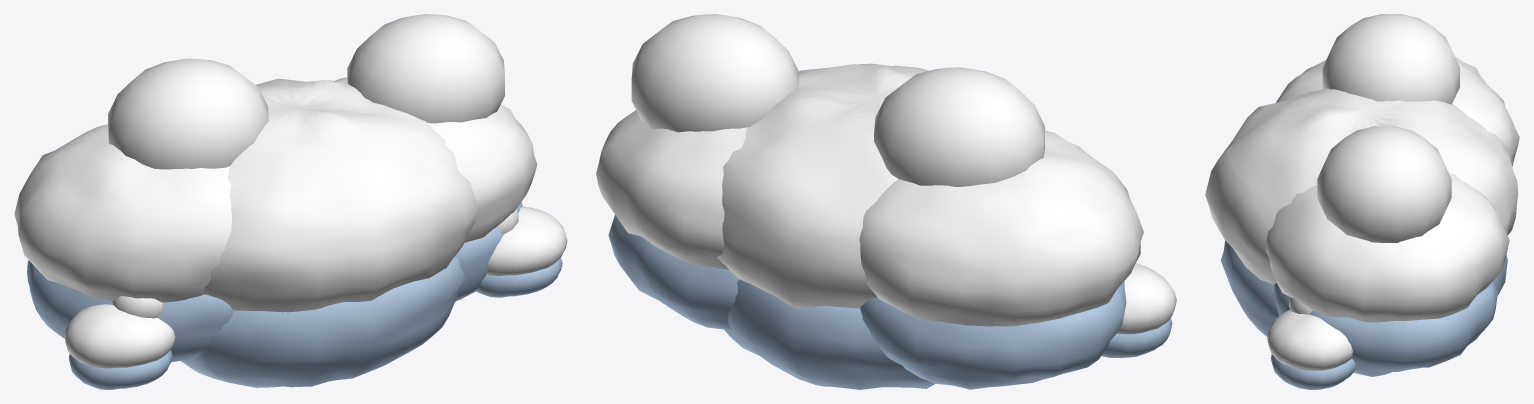
File: cloud-c.glb
3 renders of one model, left to right at view 1: azimuth 30°, elevation 25°; view 2: azimuth 150°, elevation 25°; view 3: azimuth 270°, elevation 25°, orthographic. The views are drawn at different scales.
Parts seen in each view (by area): view 1: cloud puff.002, cloud puff.001, cloud belly.002, cloud cap.003, cloud cap.001, cloud puff.003, cloud belly.001, cloud puff, cloud puff.004, cloud belly, cloud belly.003, cloud belly.004 (+1 smaller); view 2: cloud puff.001, cloud puff.002, cloud cap.003, cloud cap.001, cloud puff.003, cloud belly.001, cloud belly.002, cloud belly.003, cloud puff, cloud belly; view 3: cloud puff.002, cloud puff.003, cloud cap.001, cloud cap.003, cloud belly.003, cloud puff.004, cloud puff.001, cloud belly.002, cloud belly.004.
Part boxes in pixels (<box>): cloud puff.002: <box>204,78,478,312</box>; cloud puff.001: <box>14,124,231,302</box>; cloud belly.002: <box>180,257,464,387</box>; cloud cap.003: <box>108,58,268,169</box>; cloud cap.001: <box>347,14,504,123</box>; cloud puff.003: <box>335,77,537,242</box>; cloud belly.001: <box>27,260,233,362</box>; cloud puff: <box>64,304,175,368</box>; cloud puff.004: <box>486,206,567,275</box>; cloud belly: <box>68,350,172,389</box>; cloud belly.003: <box>454,202,522,300</box>; cloud belly.004: <box>475,257,562,297</box>; cloud puff.001: <box>859,130,1143,326</box>; cloud puff.002: <box>717,63,1045,308</box>; cloud cap.003: <box>874,67,1044,186</box>; cloud cap.001: <box>631,14,798,132</box>; cloud puff.003: <box>596,110,747,269</box>; cloud belly.001: <box>860,281,1126,389</box>; cloud belly.002: <box>724,279,935,389</box>; cloud belly.003: <box>608,215,738,330</box>; cloud puff: <box>1117,263,1176,334</box>; cloud belly: <box>1101,318,1172,357</box>; cloud puff.002: <box>1205,88,1518,284</box>; cloud puff.003: <box>1266,173,1509,322</box>; cloud cap.001: <box>1317,126,1451,242</box>; cloud cap.003: <box>1322,14,1459,104</box>; cloud belly.003: <box>1273,280,1497,376</box>; cloud puff.004: <box>1267,309,1352,370</box>; cloud puff.001: <box>1276,56,1519,166</box>; cloud belly.002: <box>1221,240,1507,336</box>; cloud belly.004: <box>1270,354,1355,389</box>.
Size of the model in its own units: 17.35 by 10.33 by 10.67.
